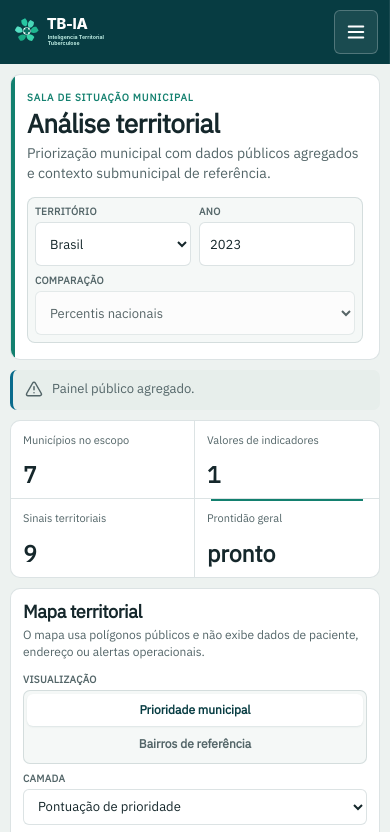
it: App › opens and closes the localized mobile navigation menu
Click the button named "Abrir menu" at (356, 32), box [334,10,378,54]
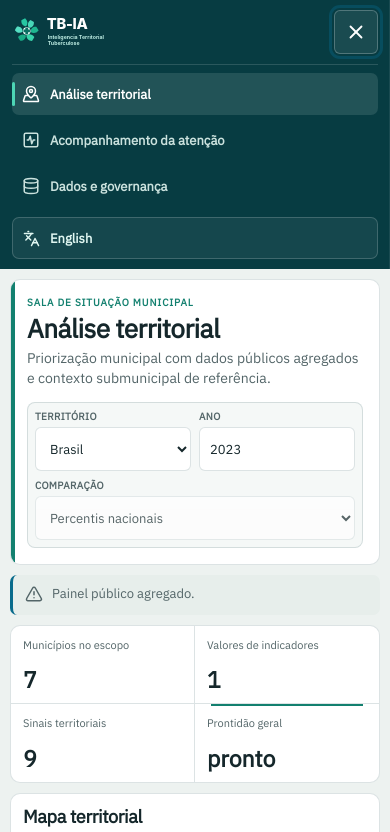
Now the button named "Fechar menu" is expanded
Click the button named "Fechar menu" at (356, 32), box [334,10,378,54]
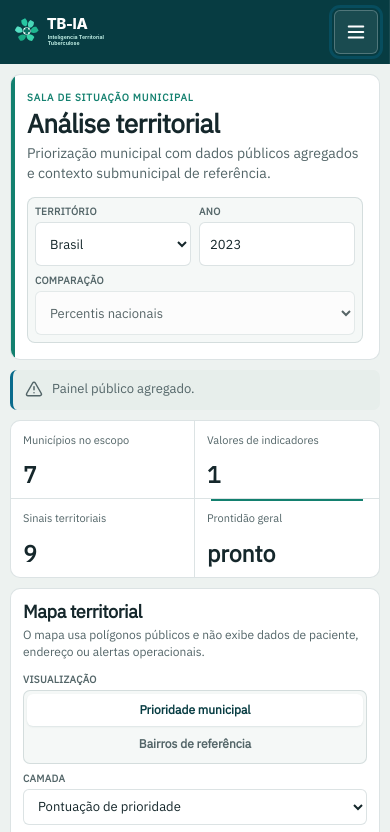
Now the button named "Abrir menu" is collapsed, box [334,10,378,54]
